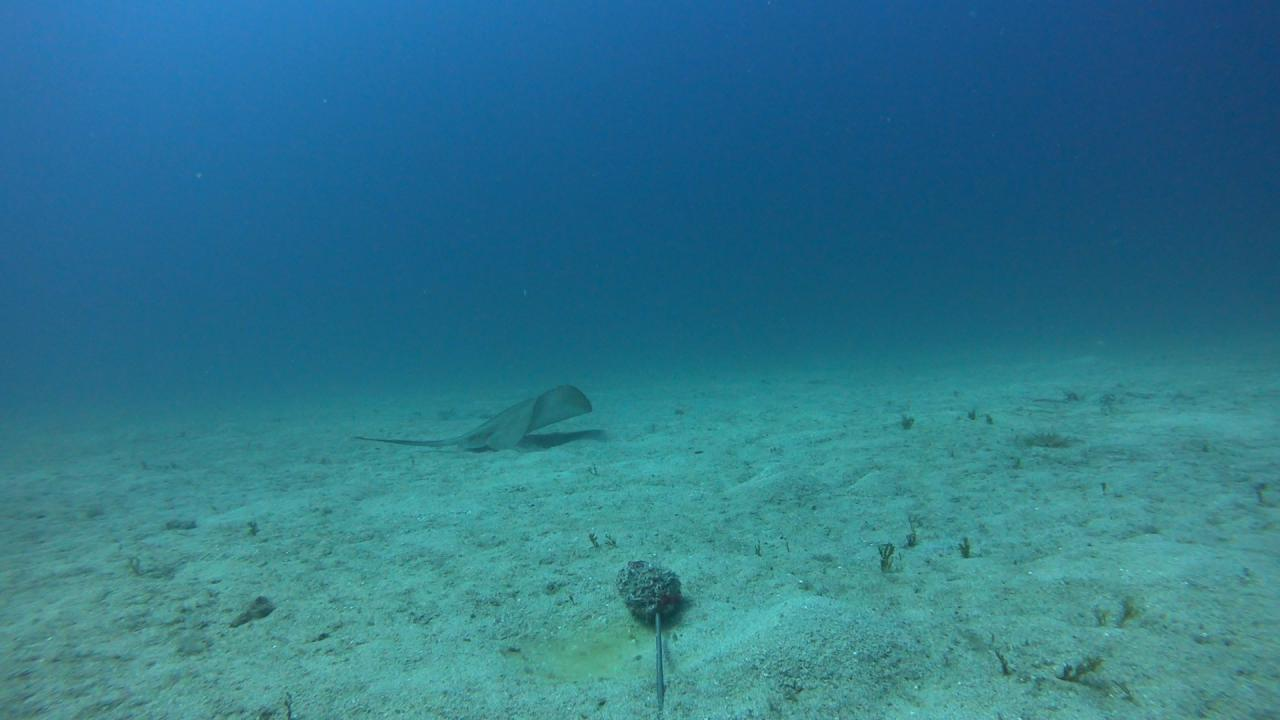dasyatis: (350, 382, 592, 451)
